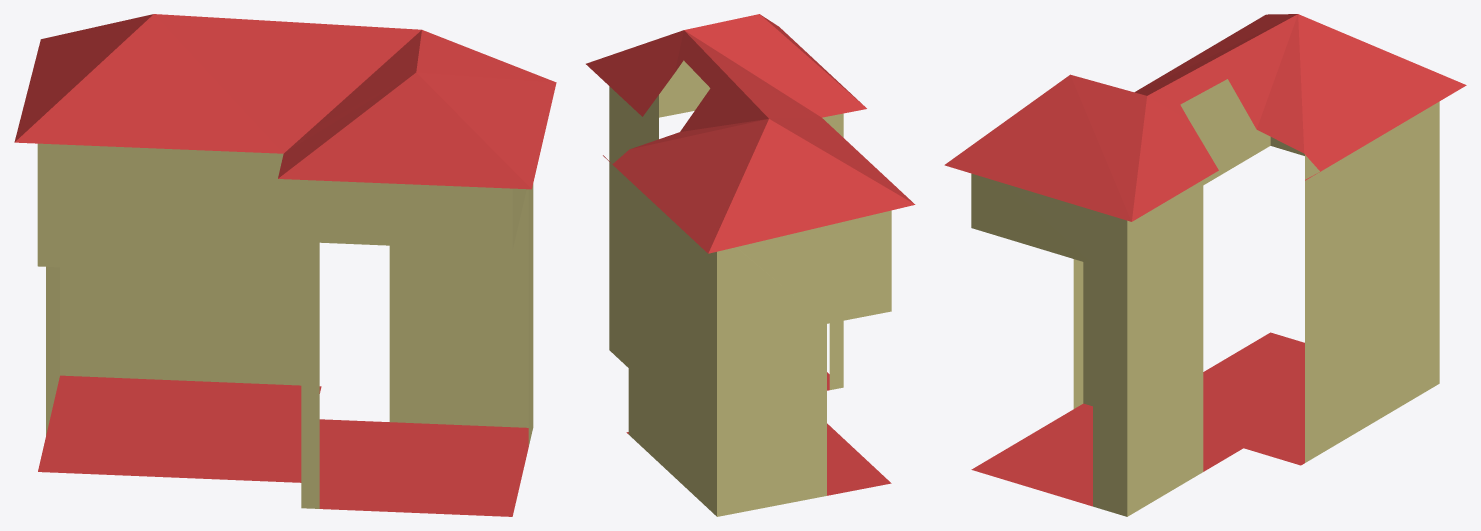
The picture shows the model from 3 angles, left to right: view 1: azimuth 30°, elevation 25°; view 2: azimuth 150°, elevation 25°; view 3: azimuth 270°, elevation 25°; orthographic projection. The views are drawn at different scales.
Parts seen in each view (by area): view 1: group_5, group_3, group_6; view 2: group_5, group_3, group_6, group_4; view 3: group_5, group_3, group_6, group_4.
Boxes of the visible parts, x1,y1,x2,y2 form: group_5: (37,143,533,508); group_3: (14,14,556,189); group_6: (38,375,528,516); group_5: (609,60,891,516); group_3: (586,14,915,253); group_6: (626,372,891,495); group_4: (592,55,656,198); group_5: (971,79,1439,516); group_3: (944,14,1466,221); group_6: (971,332,1304,506); group_4: (1133,150,1217,217).
Bounding box in the file's own units: 18.92 × 20.15 × 16.02.
